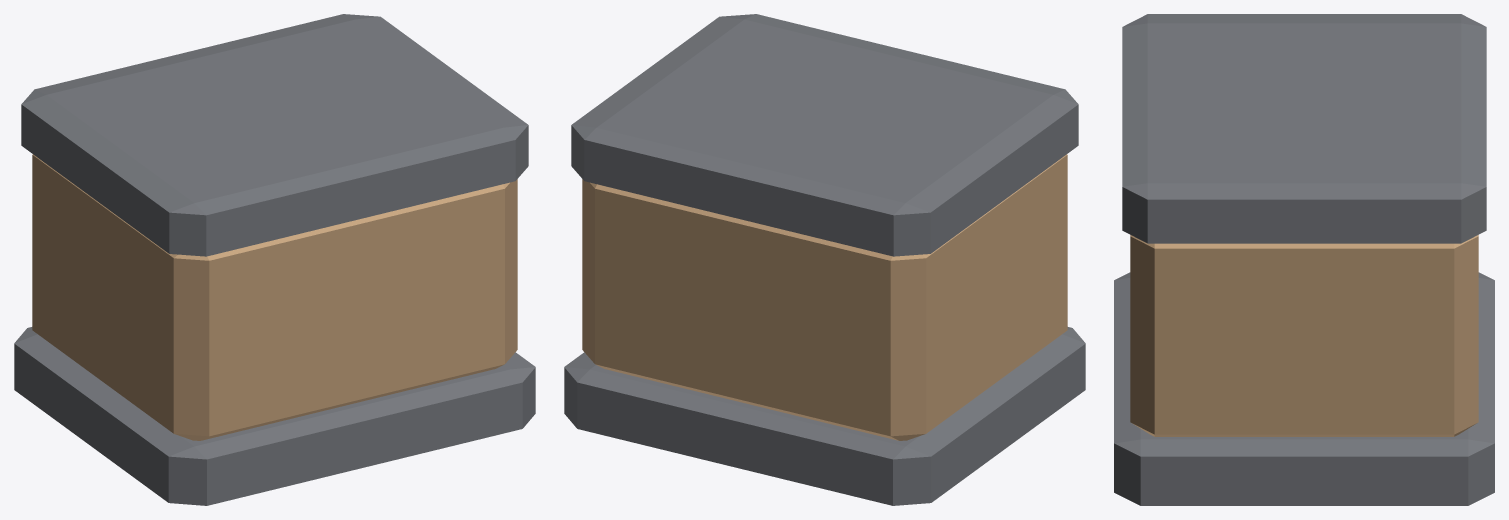
File: b20_bagged_road_salt_pallet.glb
3 views of the same model, side by side, from view 1: azimuth 30°, elevation 25°; view 2: azimuth 150°, elevation 25°; view 3: azimuth 270°, elevation 25° (orthographic). The views are drawn at different scales.
Visible parts, largest first — view 1: b20_bagged_road_salt_pallet; view 2: b20_bagged_road_salt_pallet; view 3: b20_bagged_road_salt_pallet.
Part boxes in pixels (x1=…): b20_bagged_road_salt_pallet: x1=14, y1=14, x2=535, y2=505; b20_bagged_road_salt_pallet: x1=564, y1=14, x2=1085, y2=505; b20_bagged_road_salt_pallet: x1=1114, y1=14, x2=1494, y2=505.
Size of the model in its own units: 1.05 by 0.804 by 0.89.
